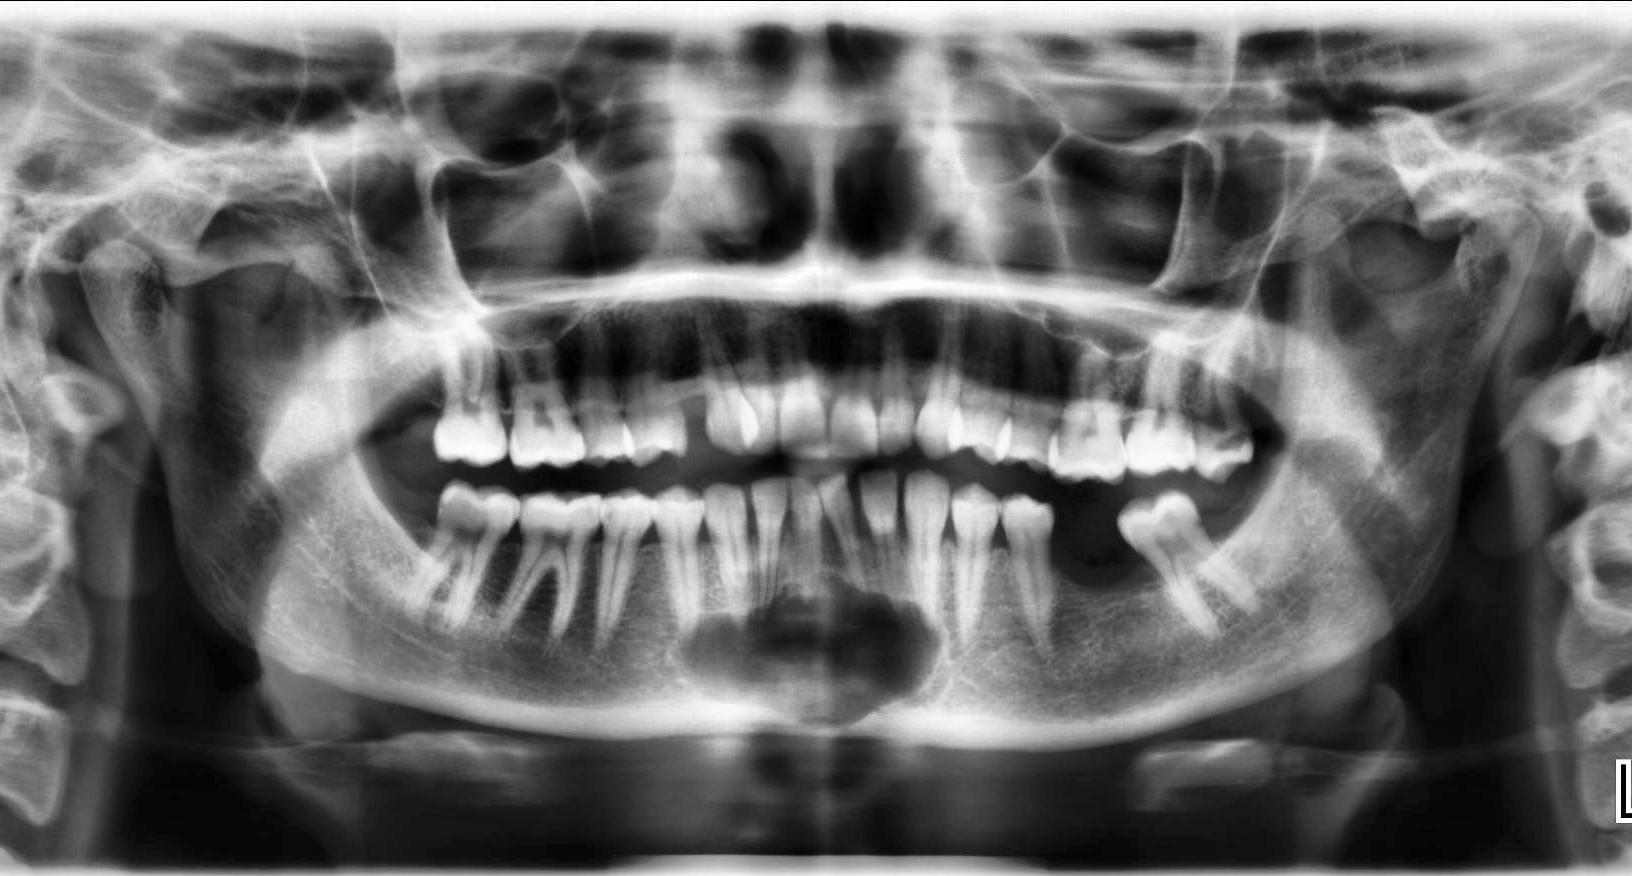radikuler: (669, 571, 944, 730)
